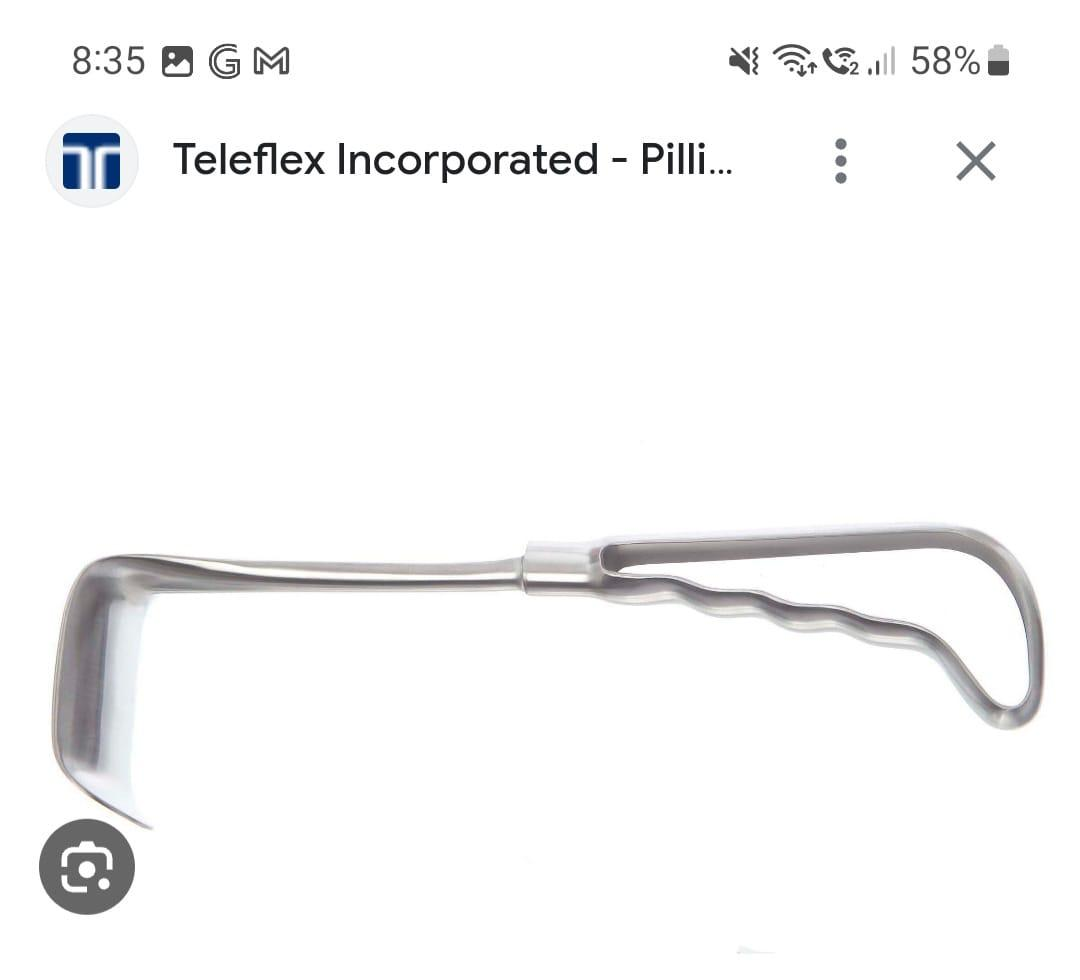Kelly Retractor: (39, 519, 1057, 840)
